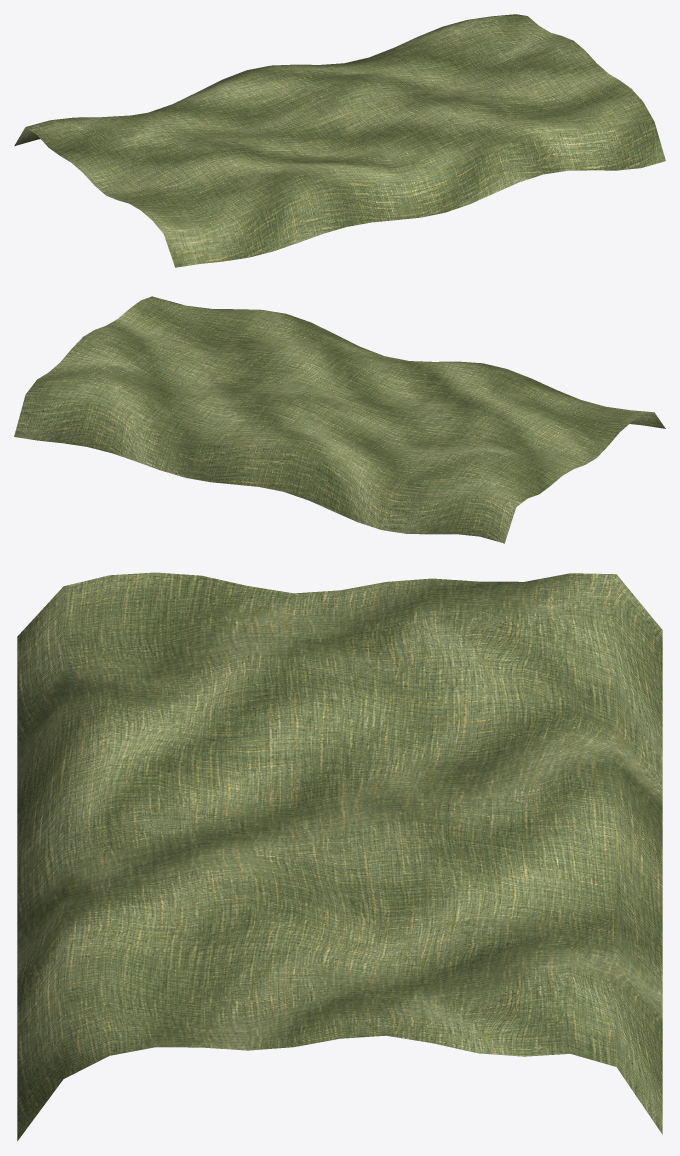
Rendered from SM_HH_Q2_Coverlet.fbx.
3 renders of one model, top to bottom at view 1: azimuth 30°, elevation 25°; view 2: azimuth 150°, elevation 25°; view 3: azimuth 270°, elevation 25°, orthographic. The views are drawn at different scales.
Visible parts, largest first — view 1: HH_Q2_Coverlet; view 2: HH_Q2_Coverlet; view 3: HH_Q2_Coverlet.
Part boxes in pixels (x1=…): HH_Q2_Coverlet: x1=14, y1=14, x2=665, y2=267; HH_Q2_Coverlet: x1=14, y1=296, x2=665, y2=543; HH_Q2_Coverlet: x1=17, y1=572, x2=662, y2=1140.
Size of the model in its own units: 0.74 by 1.3 by 0.1369.
